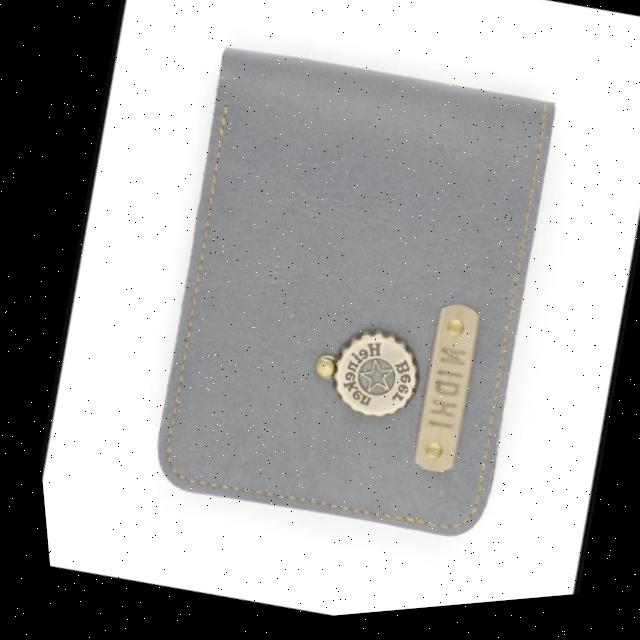cuzdan: (83, 0, 620, 607)
